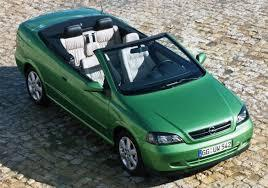opel: (208, 125, 216, 135)
